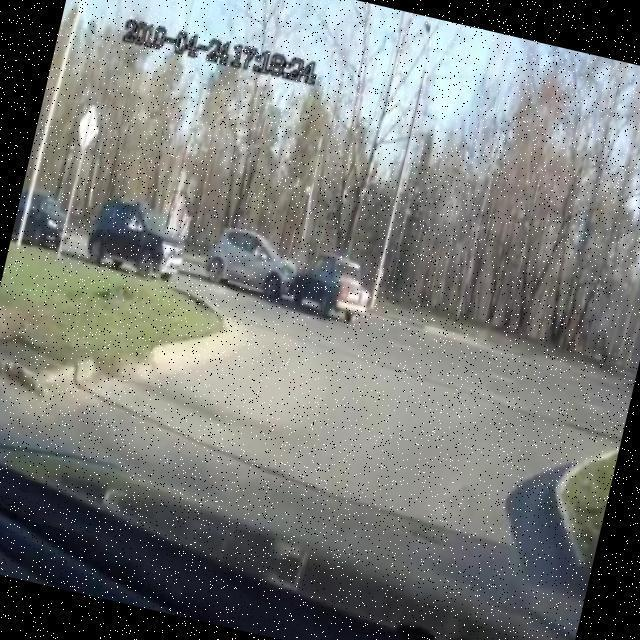accident: (191, 207, 386, 336)
